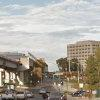Tree: (51, 55, 92, 76)
